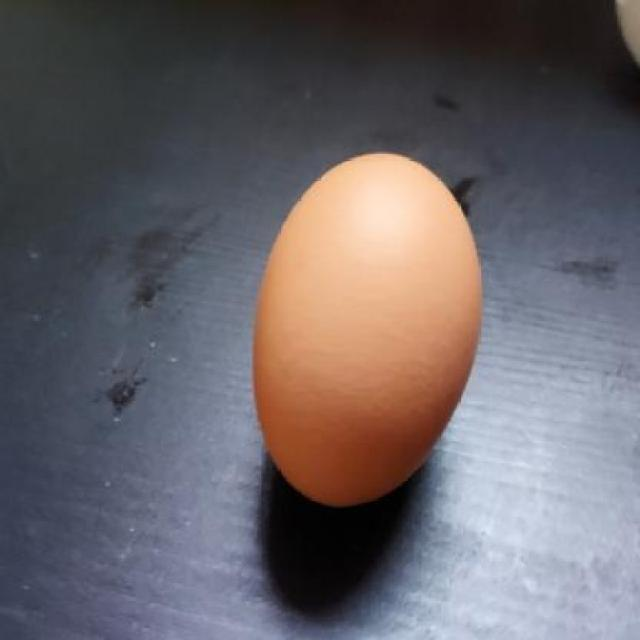biodegradable: (251, 150, 483, 512)
